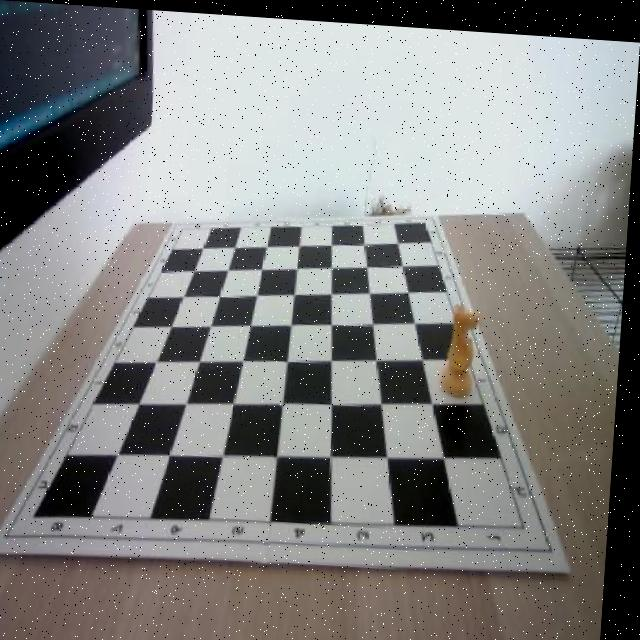white-king: (445, 297, 486, 392)
